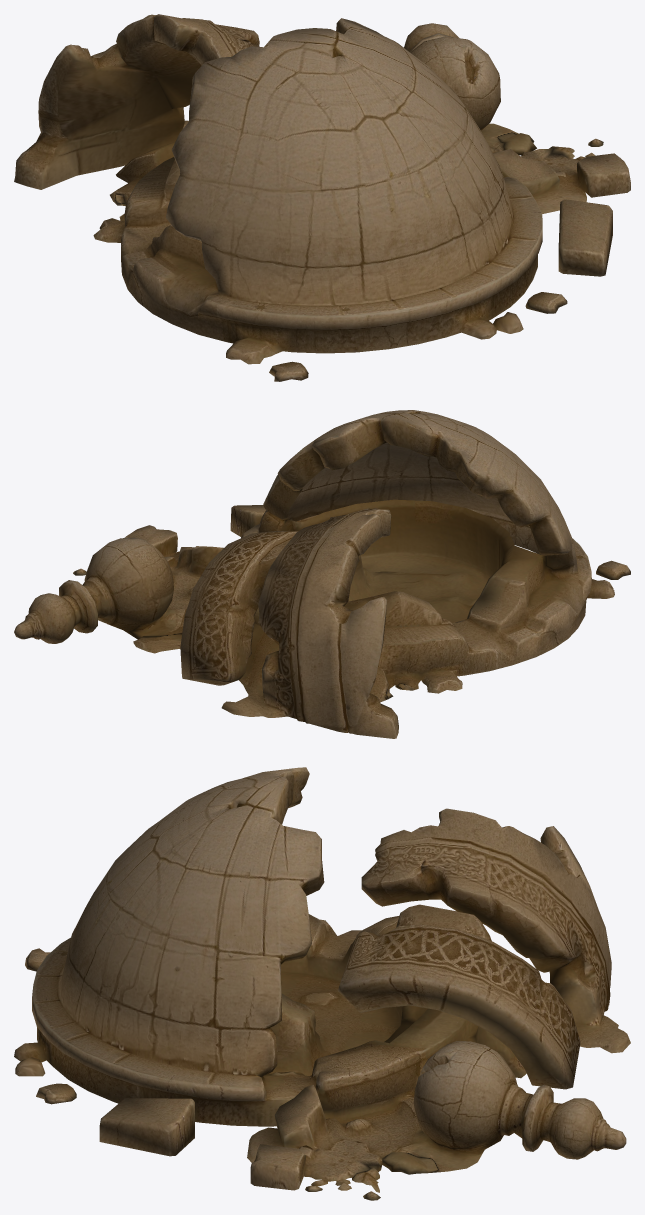
The model's file is ruins.glb.
3 renders of one model, top to bottom at view 1: azimuth 30°, elevation 25°; view 2: azimuth 150°, elevation 25°; view 3: azimuth 270°, elevation 25°, orthographic. The views are drawn at different scales.
Parts seen in each view (by area): view 1: tripo_node_2815795f-8f97-4c1a-a87f-cf8012f4ed2d; view 2: tripo_node_2815795f-8f97-4c1a-a87f-cf8012f4ed2d; view 3: tripo_node_2815795f-8f97-4c1a-a87f-cf8012f4ed2d.
Boxes of the visible parts, <box> form: tripo_node_2815795f-8f97-4c1a-a87f-cf8012f4ed2d: <box>14,14,630,381</box>; tripo_node_2815795f-8f97-4c1a-a87f-cf8012f4ed2d: <box>14,410,630,738</box>; tripo_node_2815795f-8f97-4c1a-a87f-cf8012f4ed2d: <box>14,767,630,1200</box>.
Size of the model in its own units: 0.998 by 0.4355 by 0.998.
Materials: 1 (1 with a texture image).
